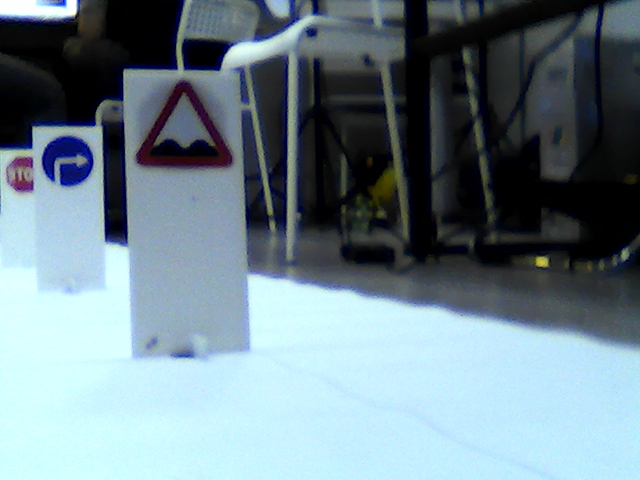Nerov: (136, 76, 232, 173)
Right: (40, 136, 95, 191)
